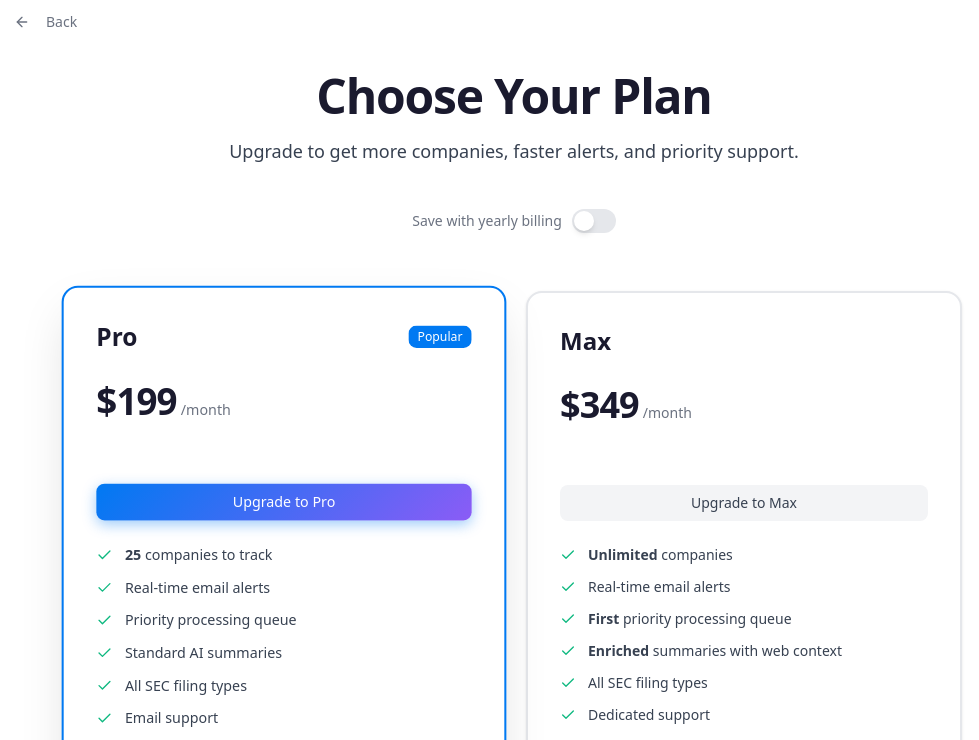
Test case: SubscribePage › should toggle billing interval between monthly and annual
The image size is (979, 740).
Expected: the heading "Pro" is shown, top-left (96, 320), bottom-right (138, 353)
Click the switch named "switch to annual billing".
click(594, 221)  # box top-left (572, 209), bottom-right (616, 233)
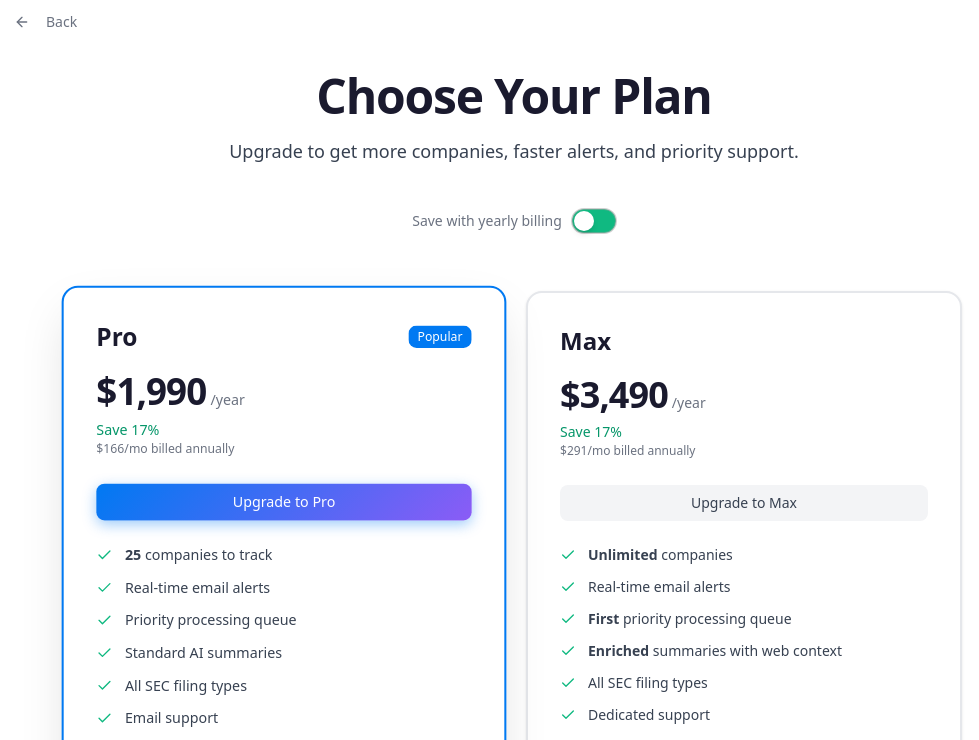
Expected: the switch named "switch to monthly billing" is shown, top-left (572, 209), bottom-right (616, 233)
